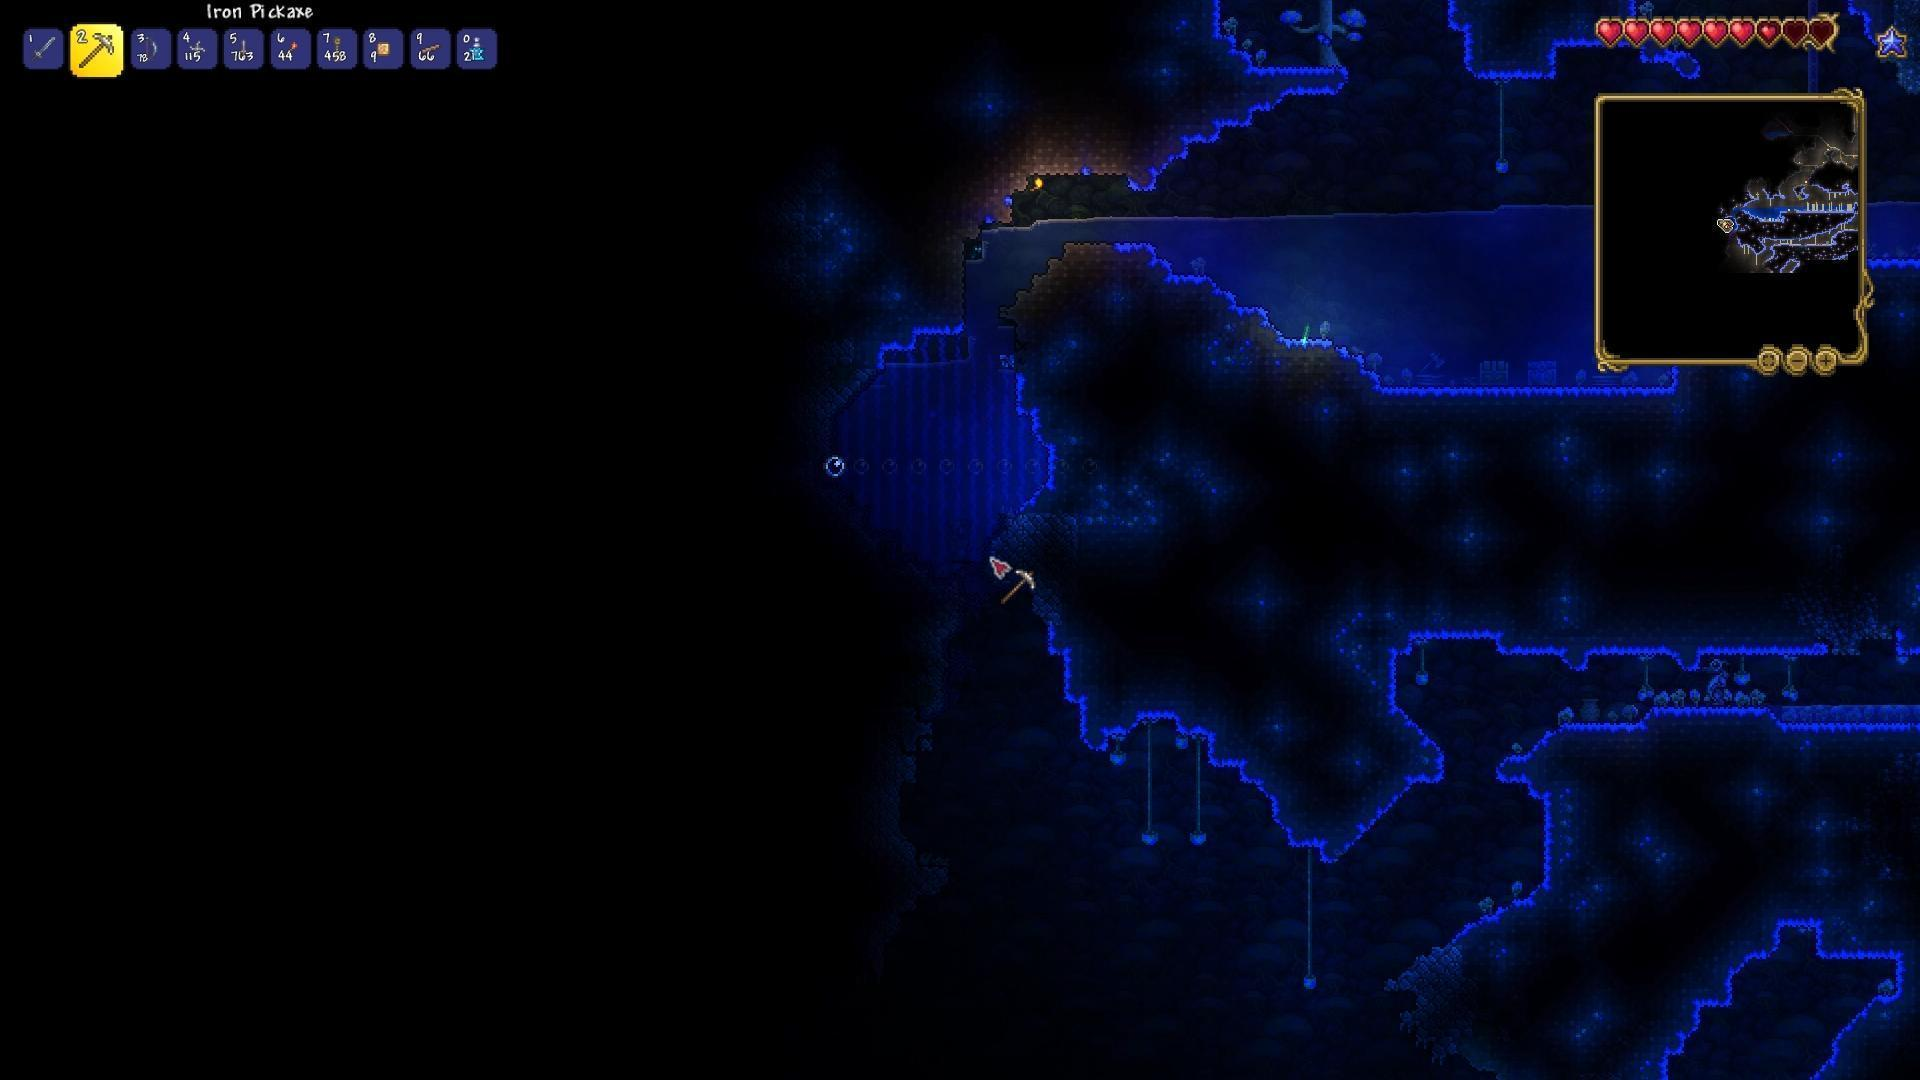bow: (140, 32, 160, 65)
glowstick: (1296, 319, 1316, 348)
knife: (237, 37, 248, 58)
pickaxe: (76, 32, 116, 71)
platform: (418, 40, 440, 55)
recallP: (468, 34, 487, 62)
rope: (328, 34, 349, 65)
shuriken: (189, 38, 207, 59)
sword: (29, 36, 58, 65)
